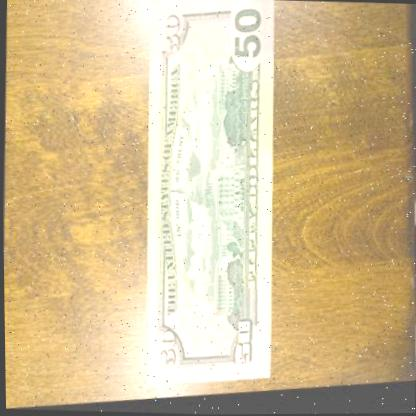dollar_back: (136, 0, 283, 394)
